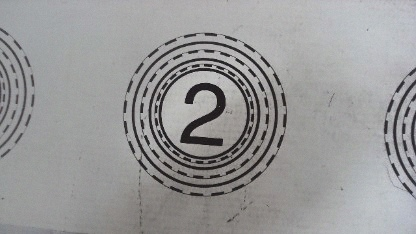2r: (121, 30, 287, 198)
